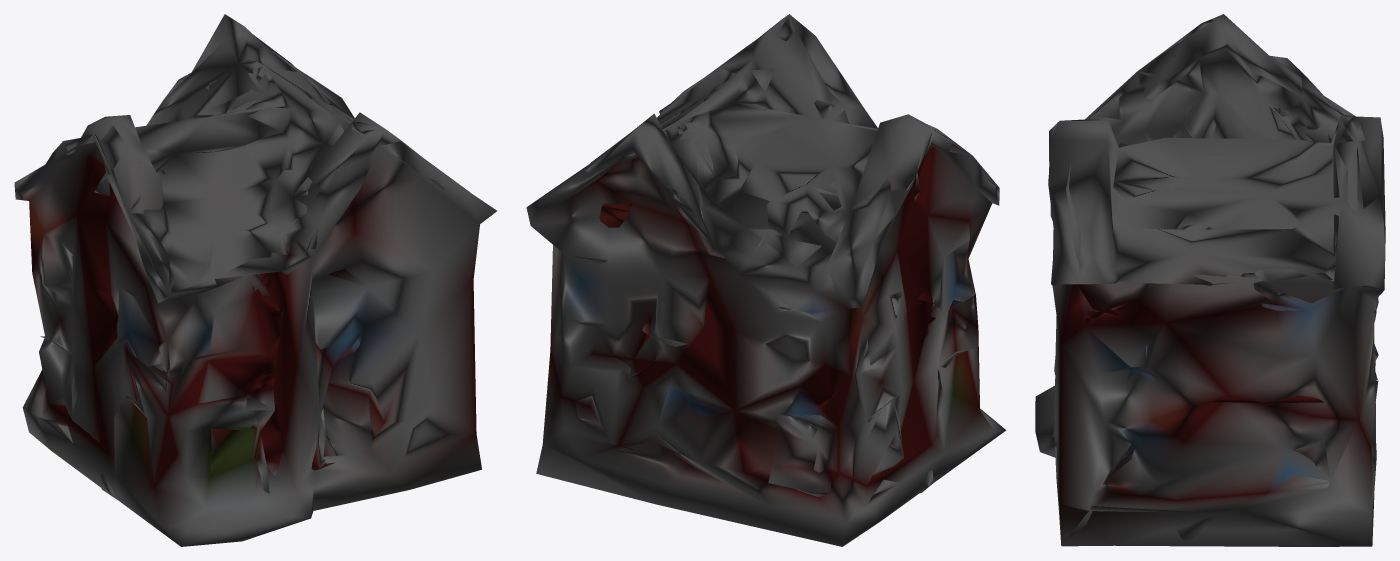
The model's file is gen3d-brick-townhouse-lod0.glb.
3 views of the same model, side by side, from view 1: azimuth 30°, elevation 25°; view 2: azimuth 150°, elevation 25°; view 3: azimuth 270°, elevation 25° (orthographic). The views are drawn at different scales.
Visible parts, largest first — view 1: part_0; view 2: part_0; view 3: part_0.
Part boxes in pixels (<box>): part_0: <box>14,14,496,546</box>; part_0: <box>526,14,1006,546</box>; part_0: <box>1035,14,1385,546</box>.
Bounding box in the file's own units: 0.9278 × 1 × 0.8297.
